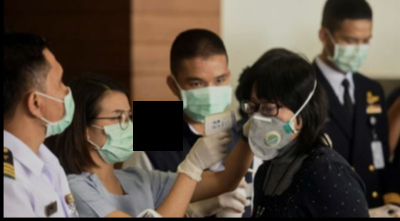with_mask: (241, 96, 293, 160), (178, 69, 233, 123), (93, 106, 138, 166), (42, 69, 74, 137), (330, 32, 369, 72)
